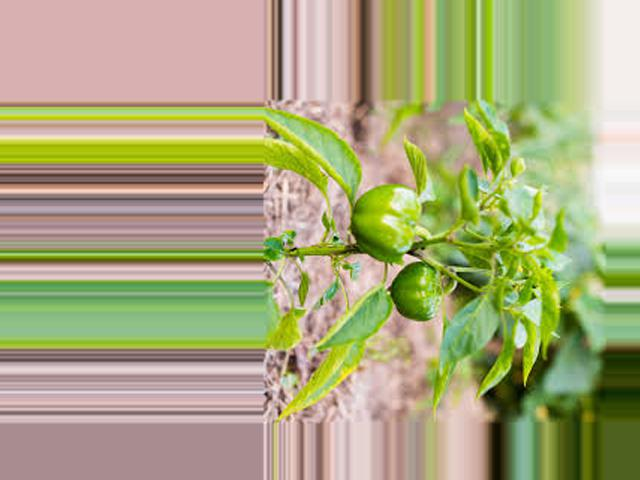bell_pepper: (385, 260, 445, 323)
